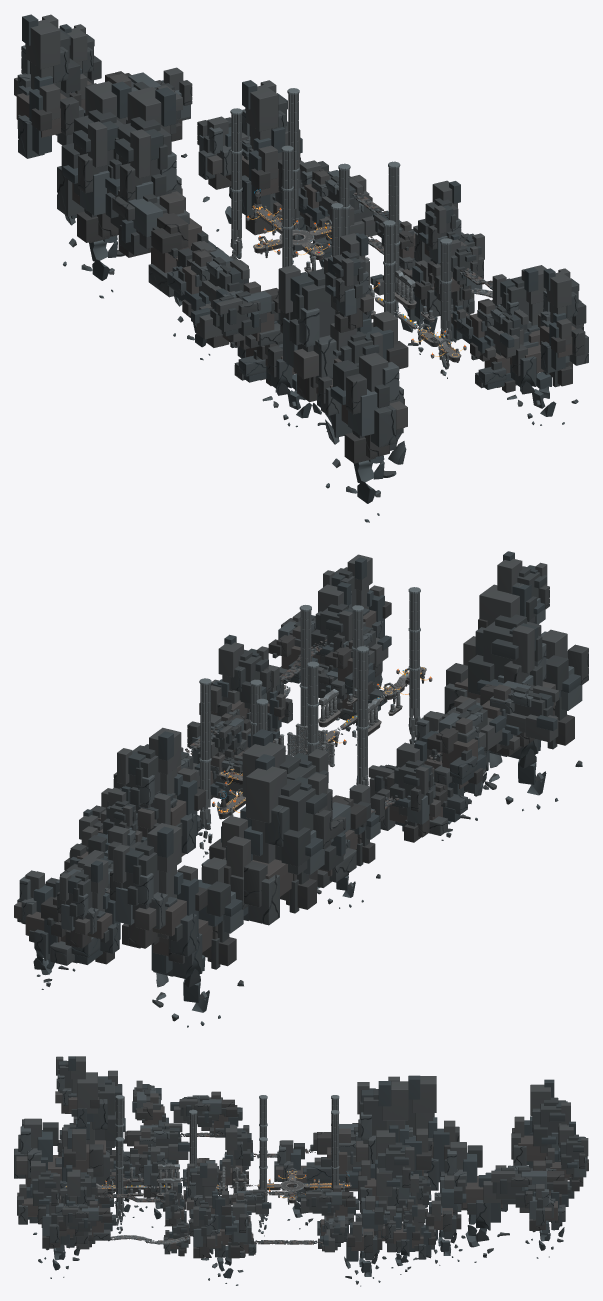
Rendered from platformer8.glb.
3 views of the same model, one above another, from view 1: azimuth 30°, elevation 25°; view 2: azimuth 150°, elevation 25°; view 3: azimuth 270°, elevation 25° (orthographic). The views are drawn at different scales.
Visible parts, largest first — view 1: ruins_002.025, ruins_001.045, ruins_001.089, ruins_001.082, ruins_001.041, ruins_001.054, ruins_001.017, ruins_001.049, ruins_001.040, ruins_001.046, ruins_001.053, ruins_001.050 (+26 smaller); view 2: ruins_001.082, ruins_001.089, ruins_001.045, ruins_002.029, ruins_001.017, ruins_002.025, ruins_001.053, ruins_001.087, ruins_001.033, ruins_001.040, ruins_001.041, ruins_001.006 (+25 smaller); view 3: ruins_001.045, ruins_001.041, ruins_001.089, ruins_002.029, ruins_001.082, ruins_001.088, ruins_001.017, ruins_002.025, ruins_002.011, ruins_001.054, ruins_002.013, ruins_001.053 (+31 smaller).
Boxes of the visible parts, <box> form: ruins_002.025: <box>325,352,407,522</box>; ruins_001.045: <box>278,254,408,402</box>; ruins_001.089: <box>14,14,83,158</box>; ruins_001.082: <box>57,81,131,242</box>; ruins_001.041: <box>105,87,185,257</box>; ruins_001.054: <box>105,189,223,297</box>; ruins_001.017: <box>242,80,300,216</box>; ruins_001.049: <box>538,268,588,373</box>; ruins_001.040: <box>191,281,282,348</box>; ruins_001.046: <box>325,233,373,332</box>; ruins_001.053: <box>167,248,249,316</box>; ruins_001.050: <box>456,298,528,358</box>; ruins_001.082: <box>223,754,331,925</box>; ruins_001.089: <box>110,823,207,956</box>; ruins_001.045: <box>444,584,555,756</box>; ruins_002.029: <box>151,857,248,1027</box>; ruins_001.017: <box>113,727,205,853</box>; ruins_002.025: <box>485,629,588,811</box>; ruins_001.053: <box>427,698,506,785</box>; ruins_001.087: <box>57,858,120,953</box>; ruins_001.033: <box>377,740,440,842</box>; ruins_001.040: <box>480,681,559,752</box>; ruins_001.041: <box>209,729,332,886</box>; ruins_001.006: <box>199,634,271,719</box>; ruins_001.045: <box>63,1070,125,1185</box>; ruins_001.041: <box>356,1081,432,1175</box>; ruins_001.089: <box>511,1079,570,1168</box>; ruins_002.029: <box>440,1142,509,1262</box>; ruins_001.082: <box>388,1075,459,1190</box>; ruins_001.088: <box>478,1160,574,1221</box>; ruins_001.017: <box>358,1125,414,1212</box>; ruins_002.025: <box>14,1118,67,1234</box>; ruins_002.011: <box>344,1196,387,1286</box>; ruins_001.054: <box>306,1123,363,1191</box>; ruins_002.013: <box>425,1175,466,1265</box>; ruins_001.053: <box>170,1091,242,1137</box>.
Size of the model in its own units: 16.59 by 13.36 by 36.01.
Materials: 5 (5 with a texture image).
